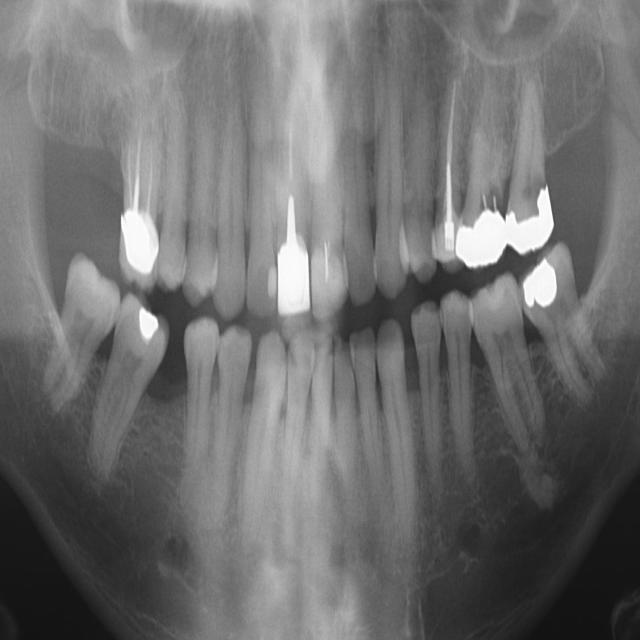infected-teeth: (428, 62, 474, 271), (118, 110, 164, 293)
